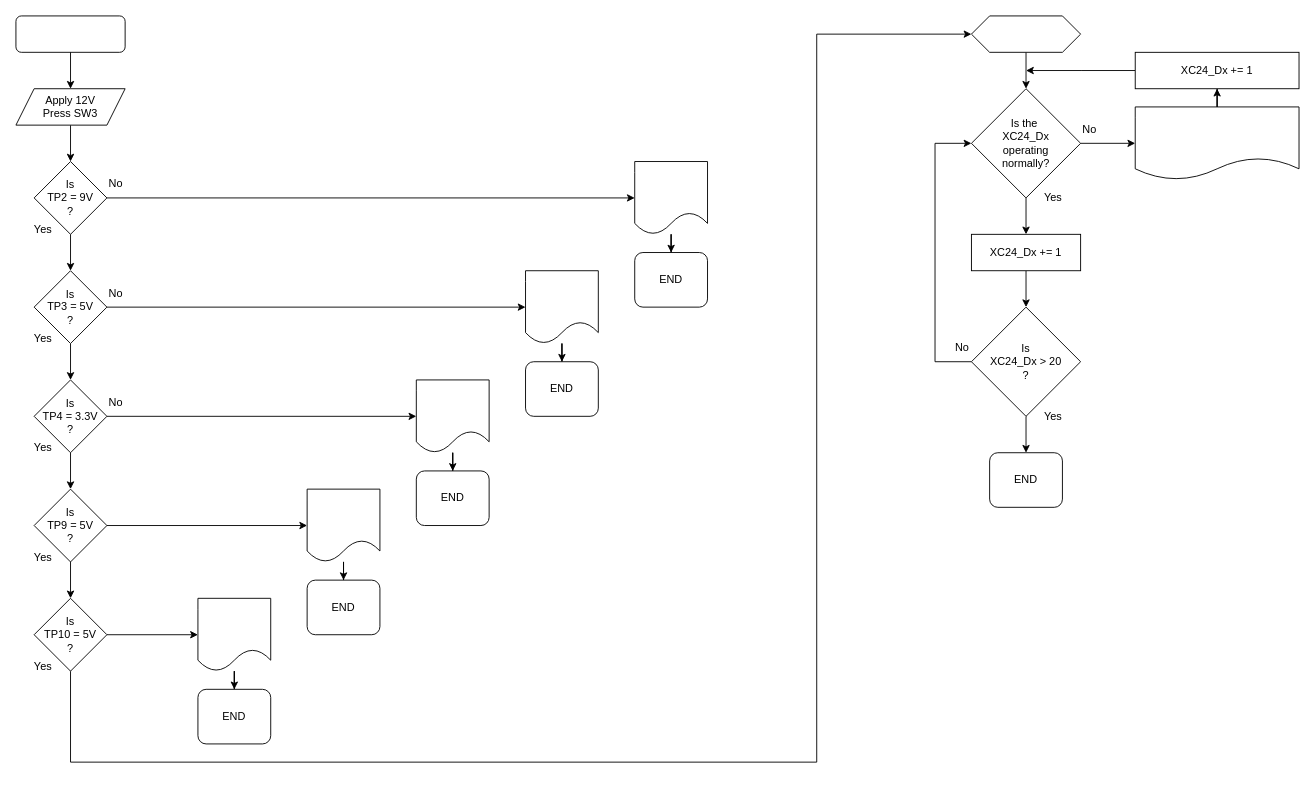
Image size: 1315x785. Some labels were removed from this diagram. Here are the shapes that lost their labels. From the top down, the centre of each, then its label:
At [70,33]: "START".
At [1026,33]: "XC24_Dx = 1".
At [1216,143]: "Replace the XC24 and the corresponding channel’s resistor and TVS.".
At [671,197]: "Replace NCV7809".
At [561,307]: "Replace LM1117-5.0".
At [452,416]: "Replace LM1117-3.3".
At [343,525]: "Replace TL431 (U5)".
At [234,634]: "Replace TL431 (U6)".
